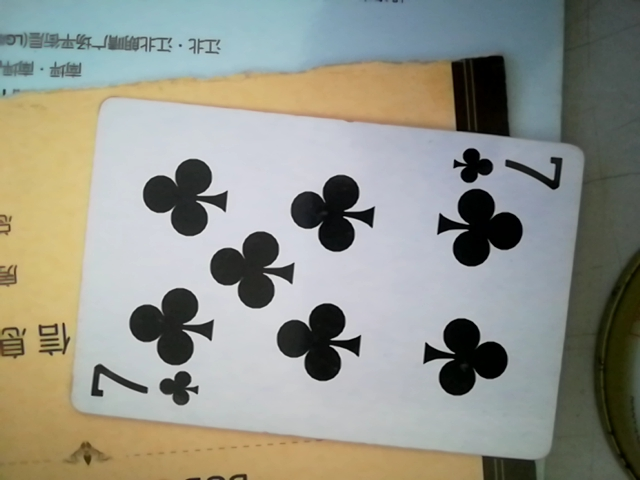mh 7: (66, 96, 587, 466)
